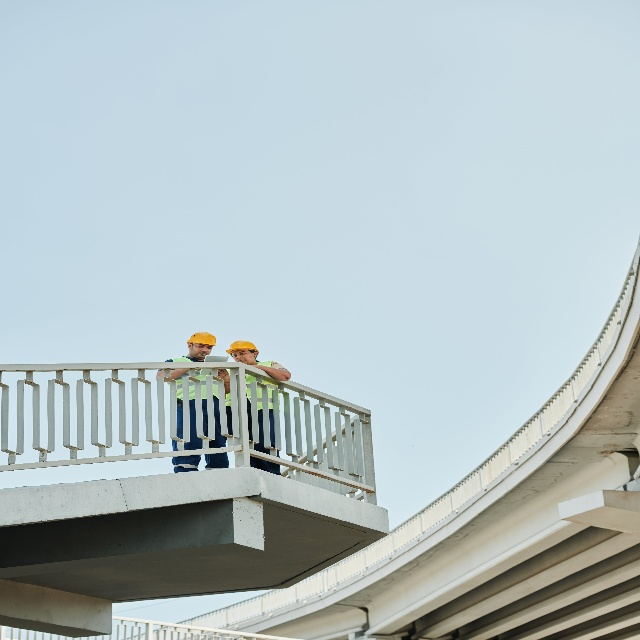Sin_guantes: (218, 369, 229, 381)
